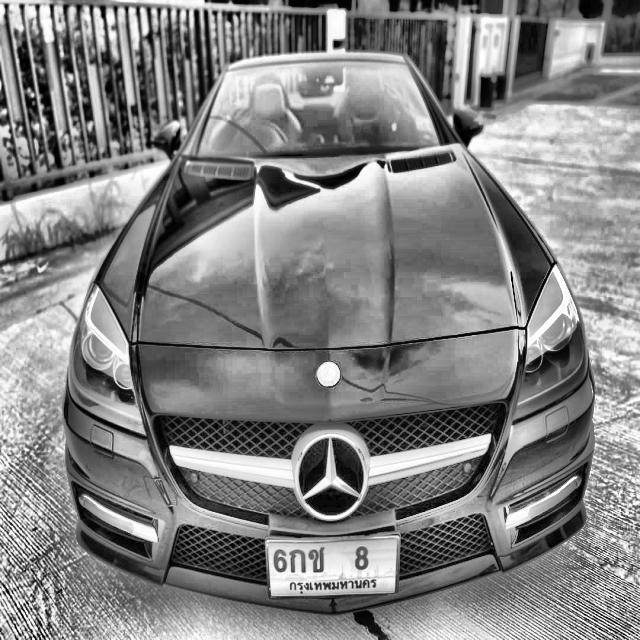license-plate: (259, 530, 407, 608)
